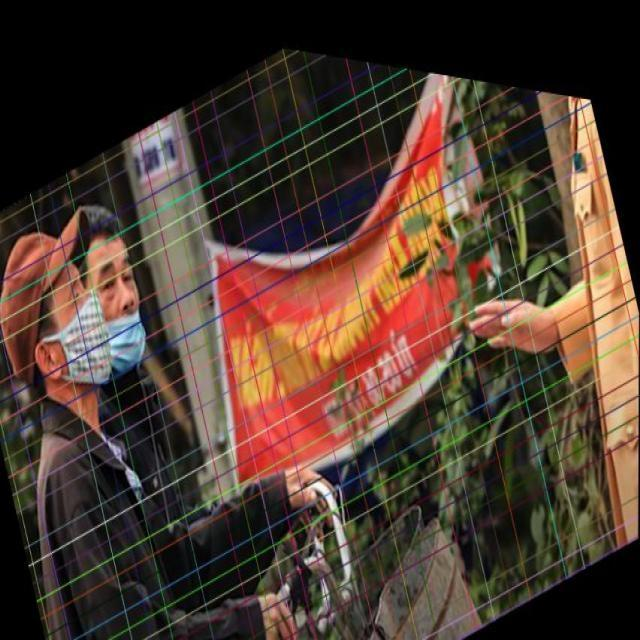hairnet: (94, 232, 153, 364)
